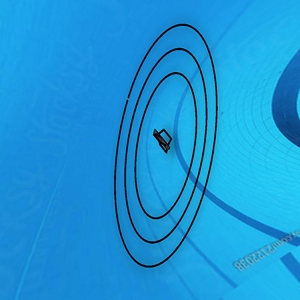circle: (114, 24, 219, 269)
submarine: (153, 126, 173, 152)
